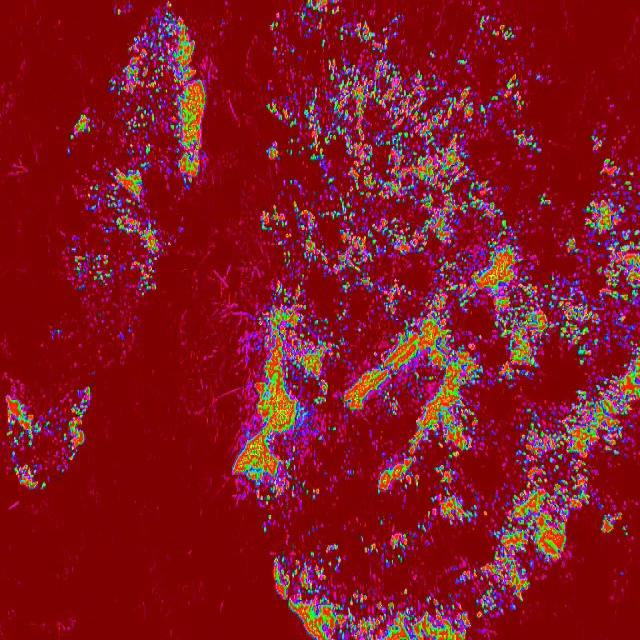fire: (225, 130, 640, 536), (269, 0, 532, 128), (272, 535, 528, 640), (65, 112, 166, 309), (112, 13, 206, 189), (0, 387, 91, 492), (529, 538, 573, 578)
